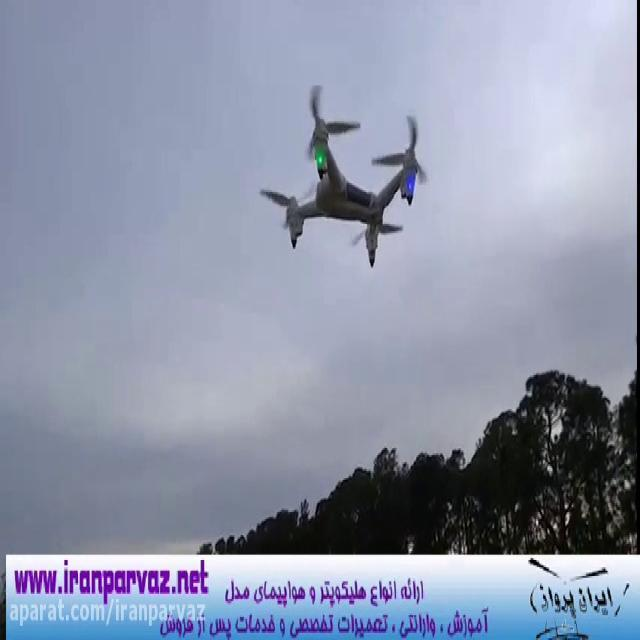drone: (257, 80, 432, 272)
